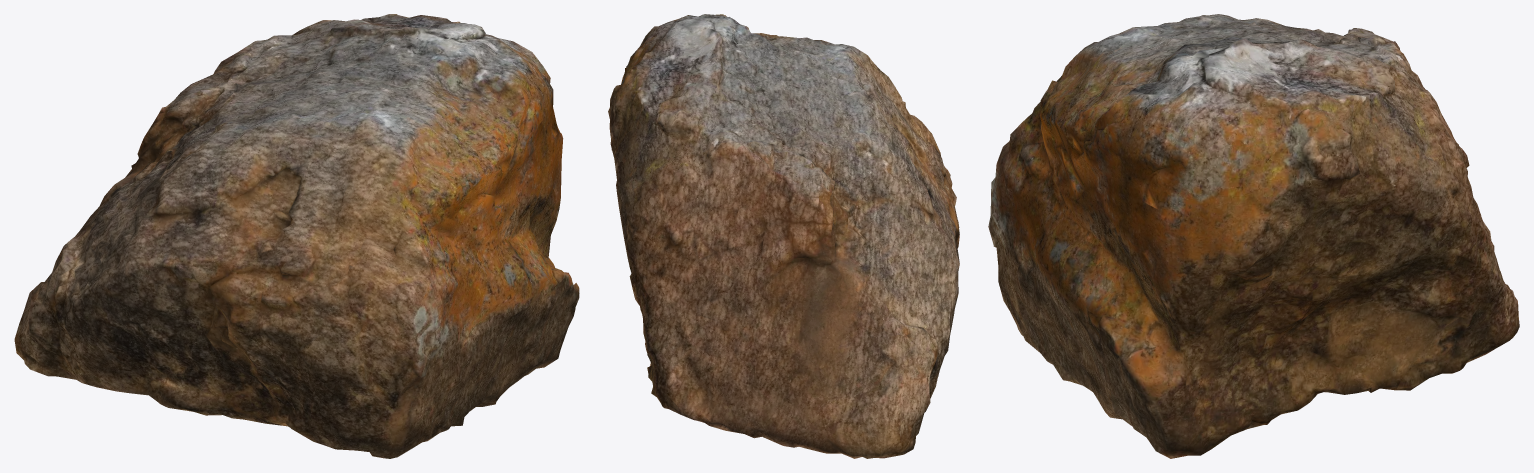
Rendered from namaqualand_boulder_04.glb.
3 renders of one model, left to right at view 1: azimuth 30°, elevation 25°; view 2: azimuth 150°, elevation 25°; view 3: azimuth 270°, elevation 25°, orthographic. The views are drawn at different scales.
Parts seen in each view (by area): view 1: boulder_04; view 2: boulder_04; view 3: boulder_04.
Boxes of the visible parts, x1,y1,x2,y2 form: boulder_04: (14, 14, 579, 458); boulder_04: (608, 14, 959, 458); boulder_04: (988, 14, 1519, 458).
Size of the model in its own units: 2.52 by 1.9 by 2.49.
Materials: 1 (1 with a texture image).
